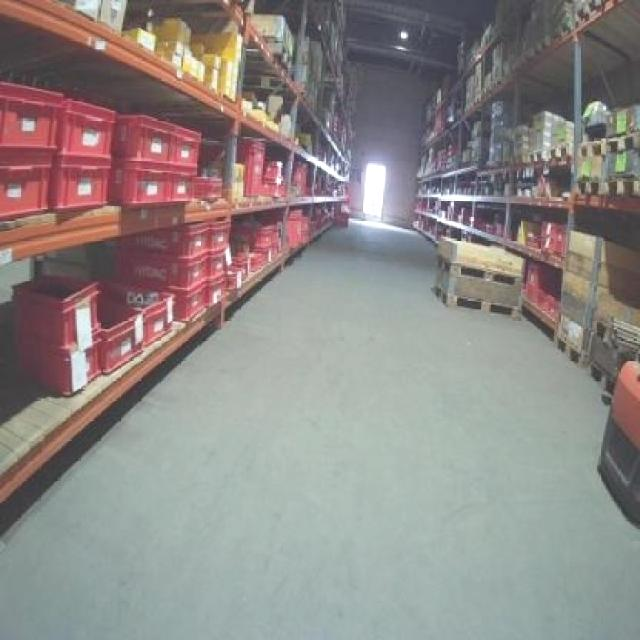floor: (0, 220, 637, 637)
pallets: (12, 275, 97, 392), (109, 114, 198, 203), (432, 235, 522, 314)
